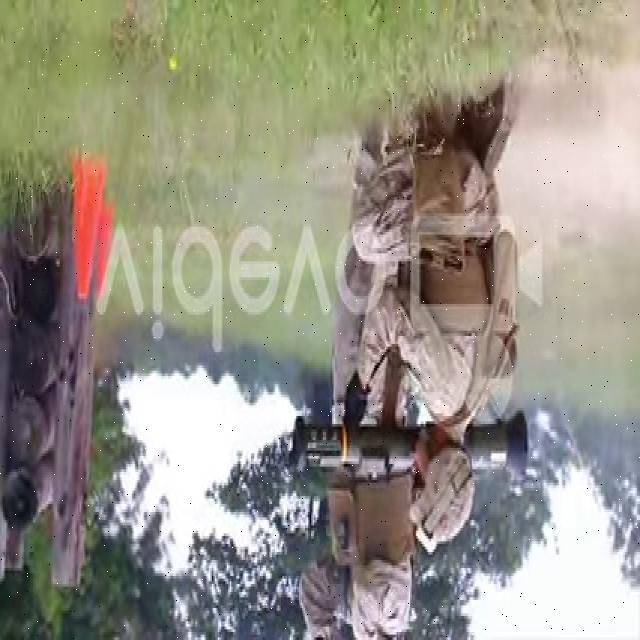bazooka: (289, 407, 535, 474)
